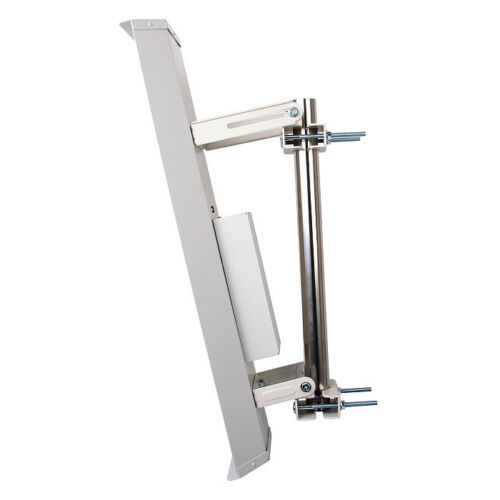sa: (102, 6, 308, 482)
